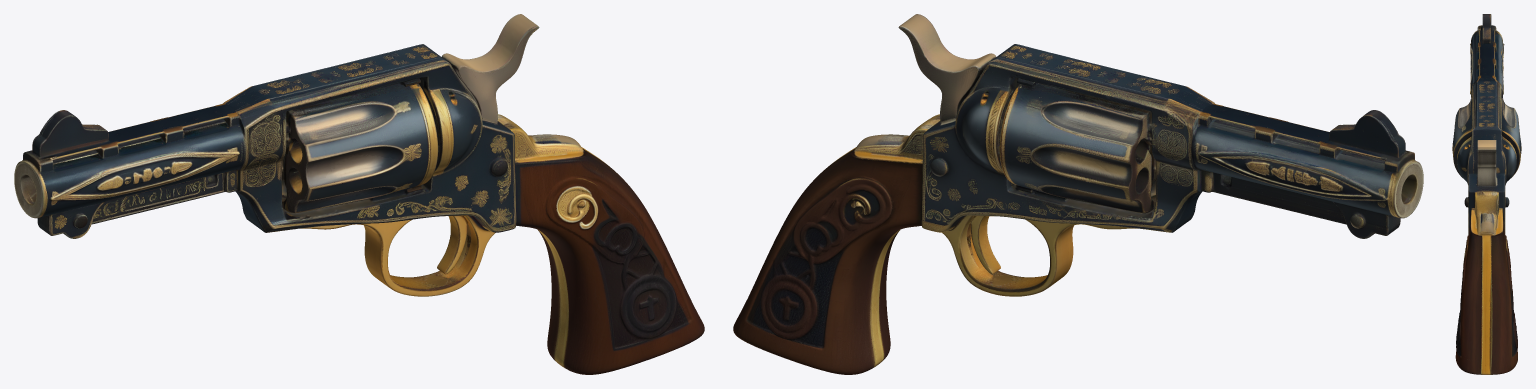
File: revolver_occult.glb
3 views of the same model, side by side, from view 1: azimuth 30°, elevation 25°; view 2: azimuth 150°, elevation 25°; view 3: azimuth 270°, elevation 25° (orthographic). The views are drawn at different scales.
Bounding box in the file's own units: 1.9 × 1.02 × 0.3156.
1 material, 1 textured.
